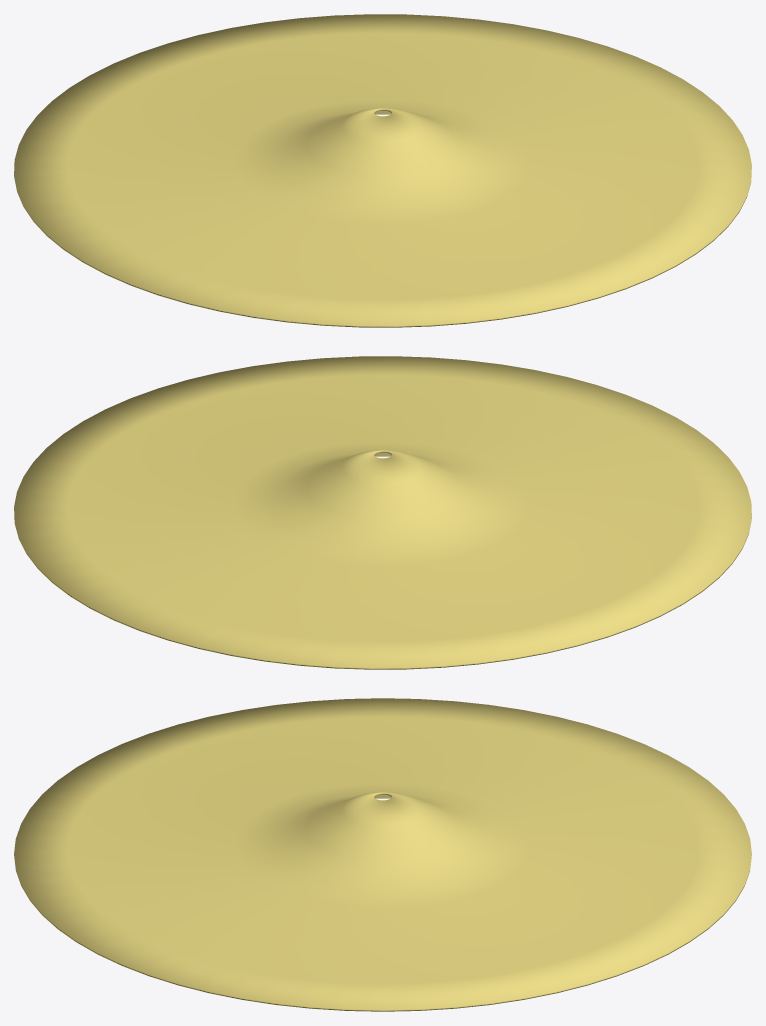
The model's file is Cymbal.fbx.
The picture shows the model from 3 angles, top to bottom: view 1: azimuth 30°, elevation 25°; view 2: azimuth 150°, elevation 25°; view 3: azimuth 270°, elevation 25°; orthographic projection.
Parts seen in each view (by area): view 1: Cymbal; view 2: Cymbal; view 3: Cymbal.
Boxes of the visible parts, box(x1,y1,x2,y2) form: Cymbal: box(14, 14, 751, 327); Cymbal: box(14, 356, 751, 669); Cymbal: box(14, 698, 751, 1011).
Size of the model in its own units: 40 by 3.55 by 40.
